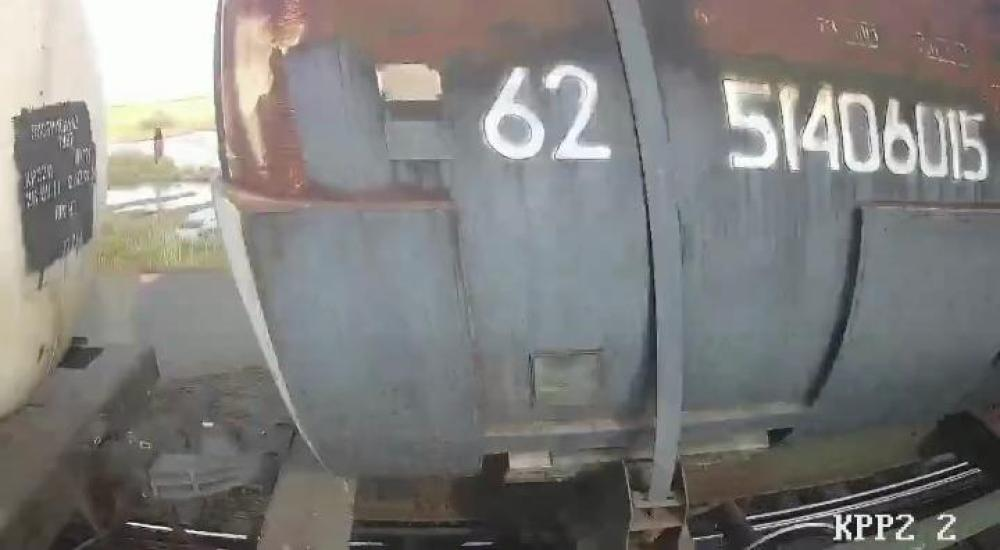Wagon-number: (714, 68, 994, 192)
